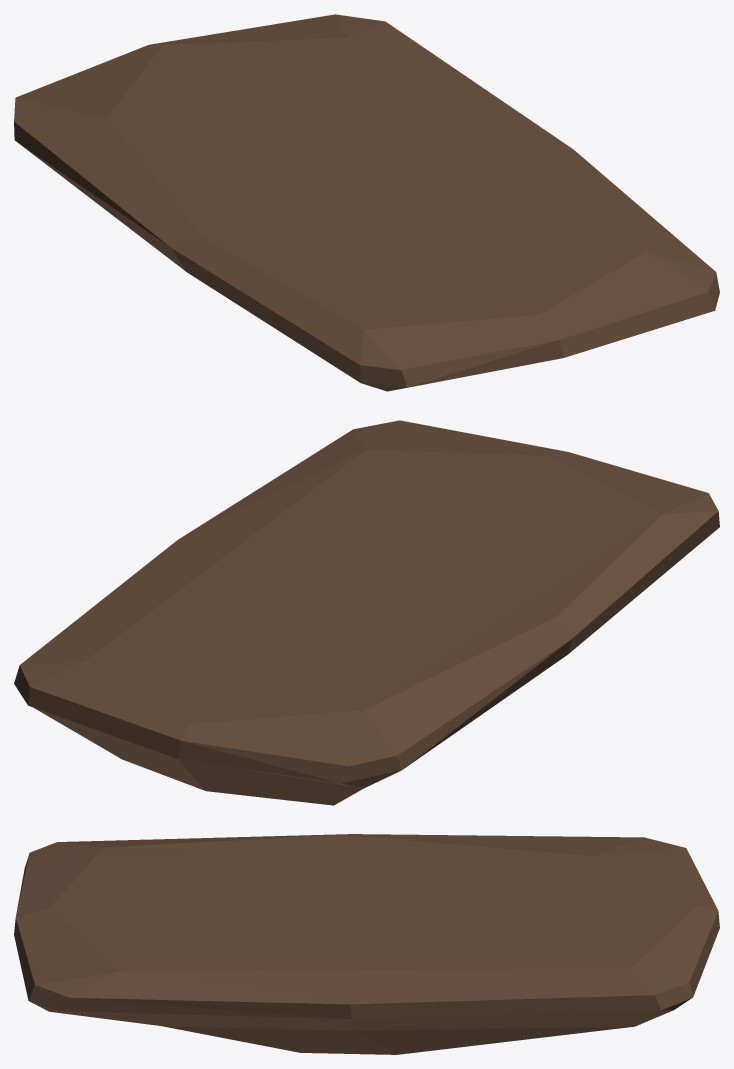
The model's file is tutorial sima2-1.fbx.
3 views of the same model, one above another, from view 1: azimuth 30°, elevation 25°; view 2: azimuth 150°, elevation 25°; view 3: azimuth 270°, elevation 25° (orthographic). The views are drawn at different scales.
Parts seen in each view (by area): view 1: Tikei; view 2: Tikei; view 3: Tikei.
Boxes of the visible parts, <box> form: Tikei: <box>14,14,719,391</box>; Tikei: <box>14,420,719,805</box>; Tikei: <box>14,834,719,1054</box>.
Bounding box in the file's own units: 5725 × 2112 × 9964.
